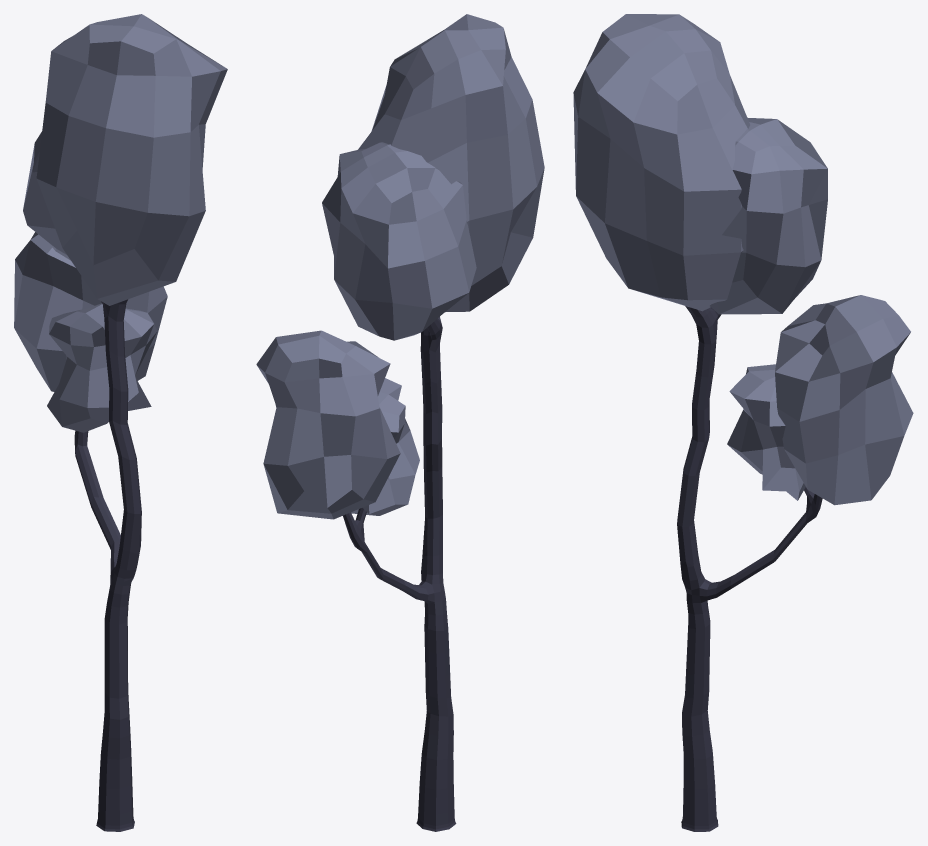
File: Normal_tree_1.fbx
The picture shows the model from 3 angles, left to right: view 1: azimuth 30°, elevation 25°; view 2: azimuth 150°, elevation 25°; view 3: azimuth 270°, elevation 25°; orthographic projection. The views are drawn at different scales.
Parts seen in each view (by area): view 1: Normal_tree_1; view 2: Normal_tree_1; view 3: Normal_tree_1.
Part boxes in pixels (bbox=[...]): Normal_tree_1: bbox=[14, 14, 227, 831]; Normal_tree_1: bbox=[256, 14, 544, 831]; Normal_tree_1: bbox=[573, 14, 913, 831].
Bounding box in the file's own units: 8.92 × 37.63 × 14.53.
